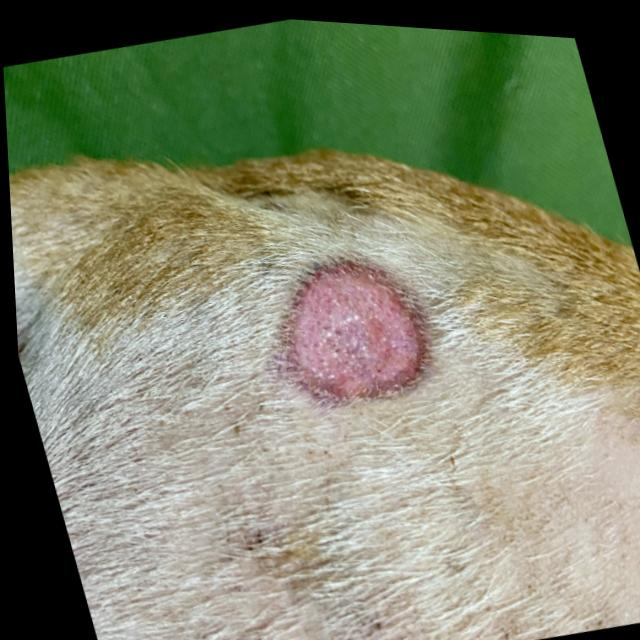ringworm: (234, 228, 463, 430)
